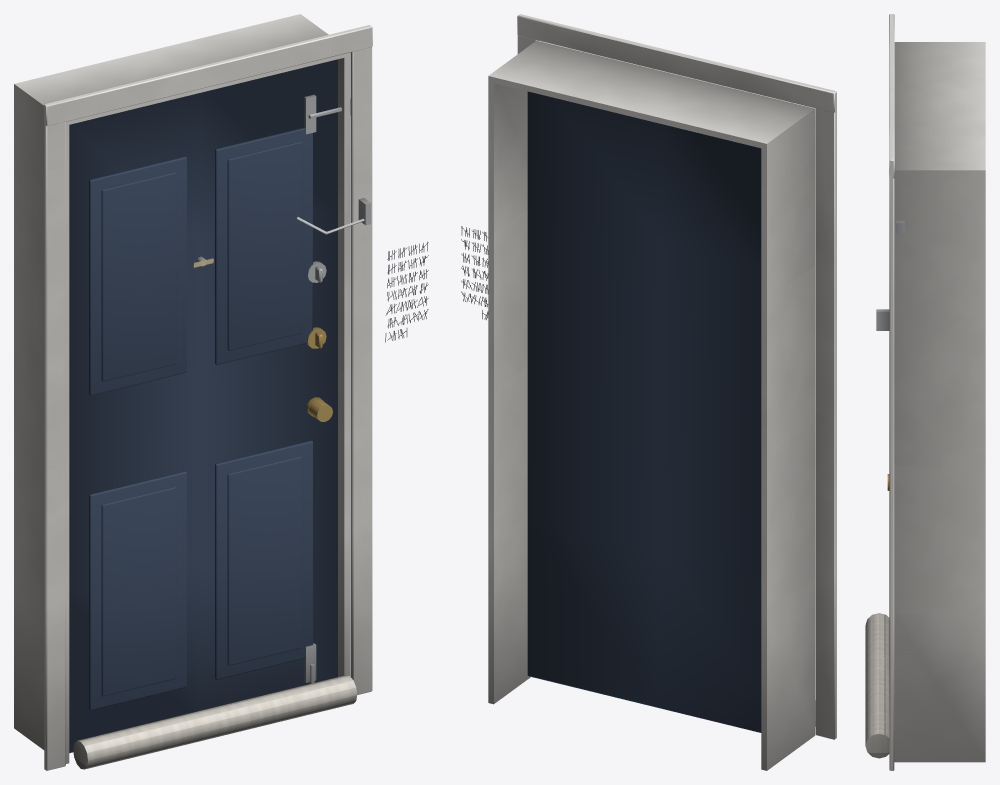
The model's file is door_front.glb.
3 views of the same model, side by side, from view 1: azimuth 30°, elevation 25°; view 2: azimuth 150°, elevation 25°; view 3: azimuth 270°, elevation 25° (orthographic). The views are drawn at different scales.
Parts seen in each view (by area): view 1: body, decals; view 2: body, decals; view 3: body.
Boxes of the visible parts, x1,y1,x2,y2 form: body: (14,14,372,770); decals: (193,241,428,342); body: (488,14,836,770); decals: (461,226,488,320); body: (865,14,985,770).
Size of what is drawn, in the model's own units: 1.35 by 2.22 by 0.395.
7 materials, 4 textured.
